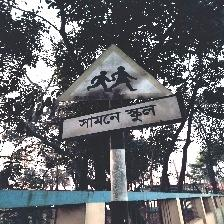School-in-front: (57, 43, 184, 140)
